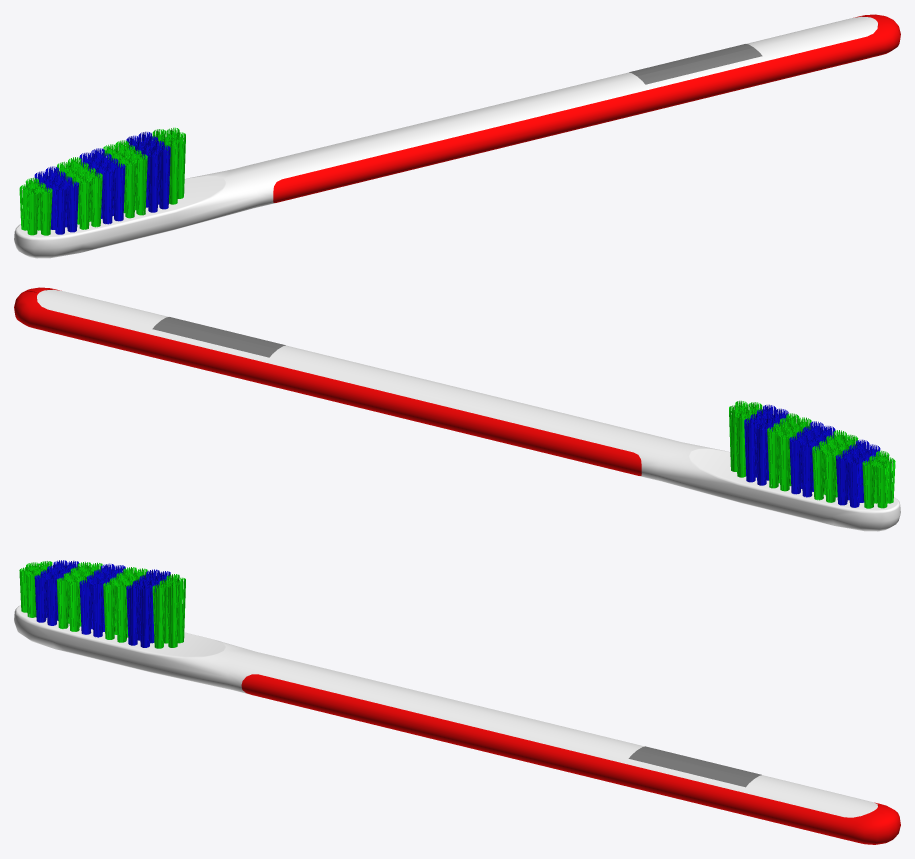
Rendered from scalare-33.fbx.
3 renders of one model, top to bottom at view 1: azimuth 30°, elevation 25°; view 2: azimuth 150°, elevation 25°; view 3: azimuth 330°, elevation 25°, orthographic.
Parts seen in each view (by area): view 1: body-primary, body-secondary, bristles-secondary, bristles-primary, logo; view 2: body-primary, body-secondary, bristles-secondary, bristles-primary, logo; view 3: body-primary, body-secondary, bristles-secondary, bristles-primary, logo.
Part boxes in pixels (left/top/right/bottom): body-primary: left=14, top=16, right=877, bottom=258; body-secondary: left=273, top=14, right=900, bottom=202; bristles-secondary: left=19, top=127, right=185, bottom=235; bristles-primary: left=34, top=131, right=170, bottom=234; logo: left=629, top=44, right=762, bottom=84; body-primary: left=37, top=289, right=900, bottom=531; body-secondary: left=14, top=287, right=641, bottom=475; bristles-secondary: left=729, top=400, right=895, bottom=508; bristles-primary: left=744, top=404, right=880, bottom=507; logo: left=152, top=317, right=285, bottom=357; body-primary: left=14, top=605, right=877, bottom=817; body-secondary: left=241, top=674, right=900, bottom=844; bristles-secondary: left=19, top=561, right=185, bottom=648; bristles-primary: left=34, top=560, right=170, bottom=647; logo: left=628, top=746, right=761, bottom=787.
Size of the model in its own units: 0.2837 by 0.027 by 0.0178.
